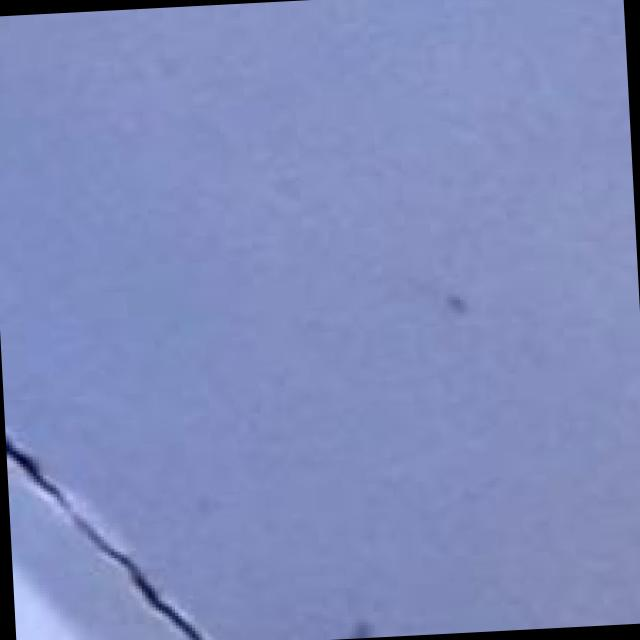crack: (8, 415, 221, 640)
